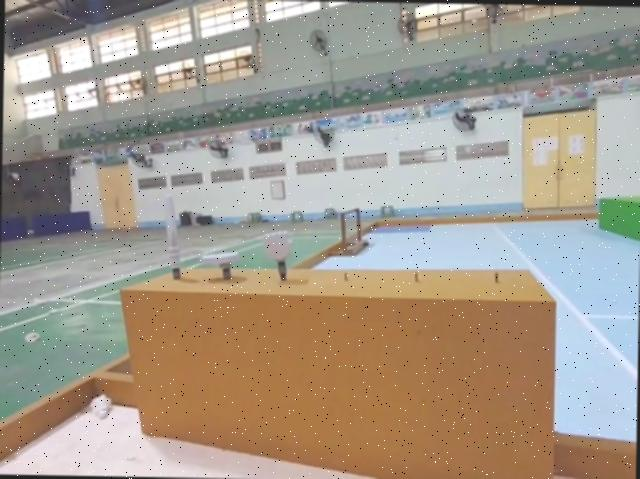Fist: (262, 226, 294, 283)
Hand: (200, 247, 239, 281)
Sph: (158, 194, 182, 280)
